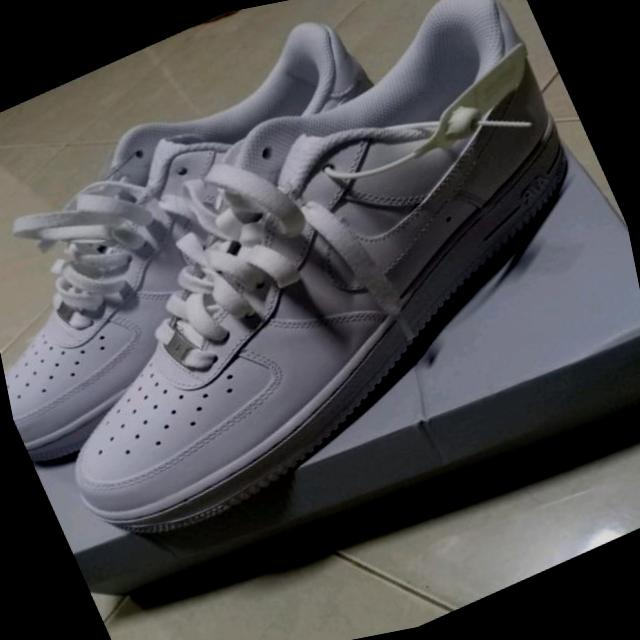nike_original_airforce: (0, 0, 640, 577), (0, 0, 479, 475)
